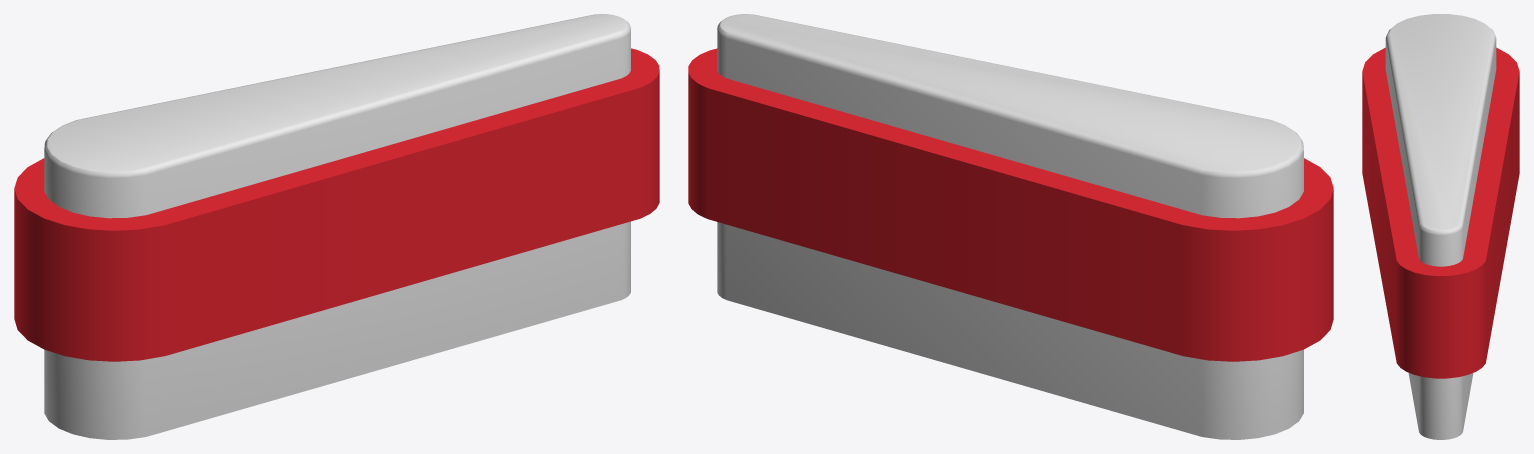
File: Flipper, Generic (2.25in).fbx
3 renders of one model, left to right at view 1: azimuth 30°, elevation 25°; view 2: azimuth 150°, elevation 25°; view 3: azimuth 270°, elevation 25°, orthographic. The views are drawn at different scales.
Parts seen in each view (by area): view 1: Flipper, Generic (2-1/4"); view 2: Flipper, Generic (2-1/4"); view 3: Flipper, Generic (2-1/4").
Part boxes in pixels (<box>): Flipper, Generic (2-1/4"): <box>14,14,659,439</box>; Flipper, Generic (2-1/4"): <box>688,14,1333,439</box>; Flipper, Generic (2-1/4"): <box>1362,14,1519,439</box>.
Size of the model in its own units: 6.22 by 2.54 by 1.74.
